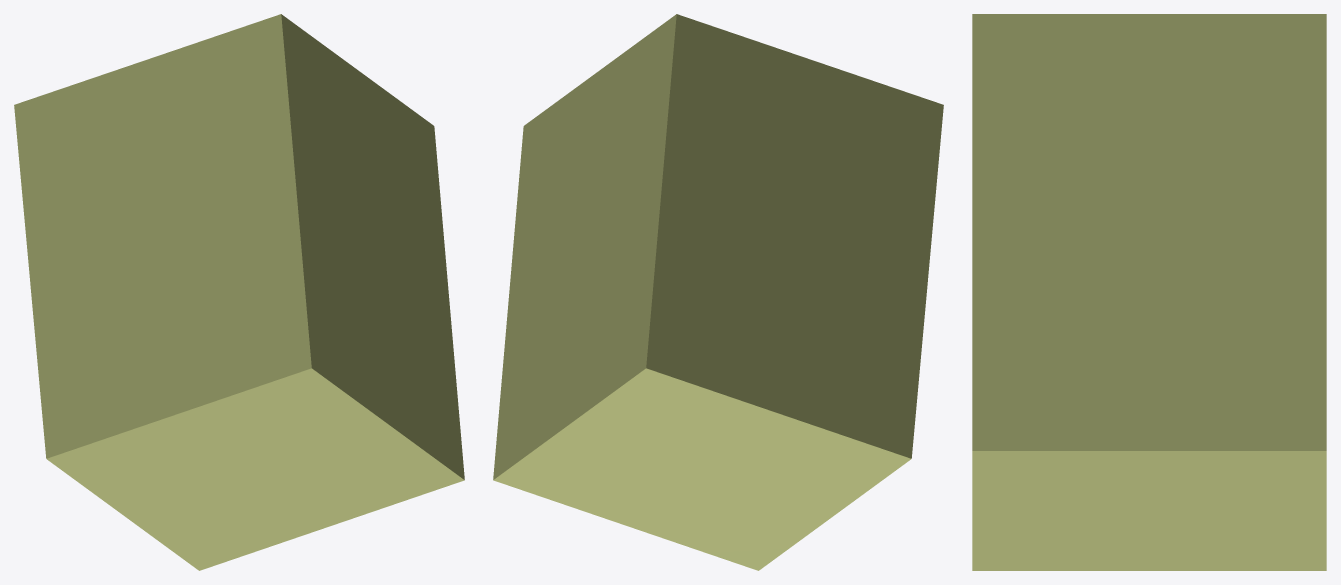
3 views of the same model, side by side, from view 1: azimuth 30°, elevation 25°; view 2: azimuth 150°, elevation 25°; view 3: azimuth 270°, elevation 25° (orthographic). The views are drawn at different scales.
Visible parts, largest first — view 1: 0_1_0_2_1_3_2_1_0_2; view 2: 0_1_0_2_1_3_2_1_0_2; view 3: 0_1_0_2_1_3_2_1_0_2.
Boxes of the visible parts, bbox=[...] form: 0_1_0_2_1_3_2_1_0_2: bbox=[14, 14, 464, 570]; 0_1_0_2_1_3_2_1_0_2: bbox=[493, 14, 943, 570]; 0_1_0_2_1_3_2_1_0_2: bbox=[972, 14, 1326, 570].
Bounding box in the file's own units: 10.11 × 12.57 × 9.
